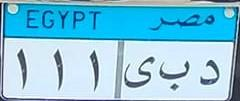1: (11, 45, 33, 90), (49, 48, 69, 90), (86, 48, 105, 91)
baa: (157, 57, 190, 94)
daal: (197, 57, 221, 91)
yaa: (123, 52, 155, 91)
